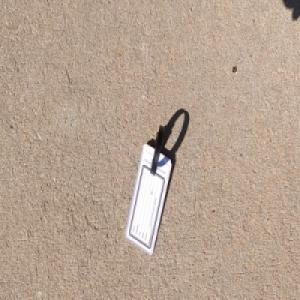LuggageTag: (124, 123, 172, 256)
